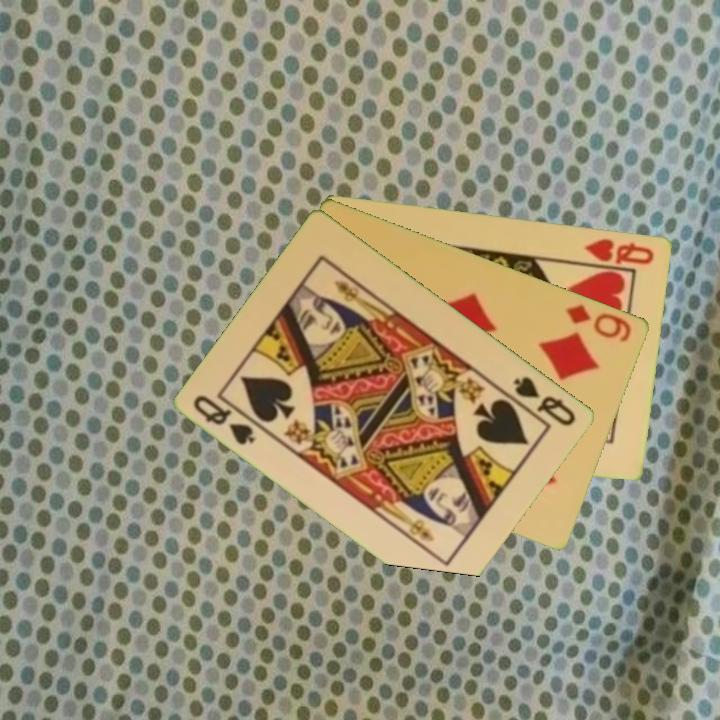6d: (563, 300, 635, 345)
Qh: (576, 234, 657, 271)
Qs: (190, 391, 267, 448), (510, 372, 579, 429)
